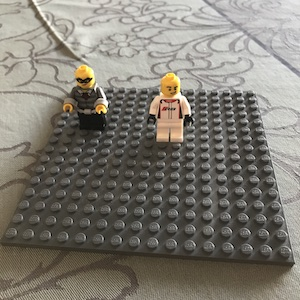Lego: (145, 71, 193, 146), (61, 64, 110, 129)
